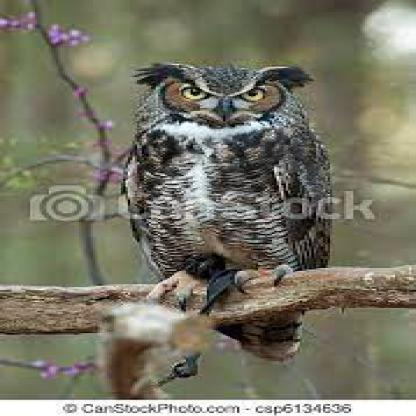owl: (67, 24, 414, 414)
